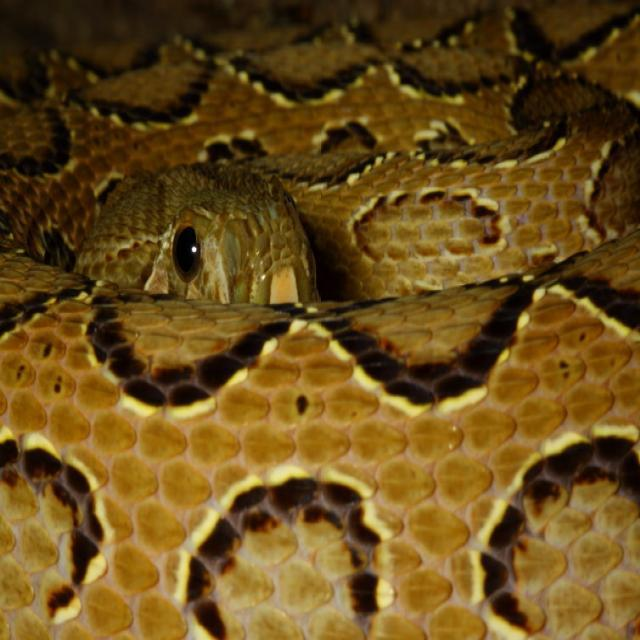Snake: (0, 2, 639, 638)
